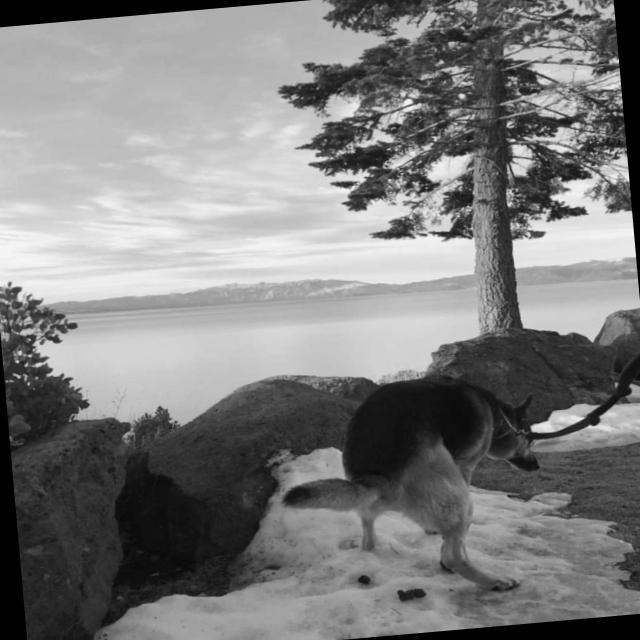squatting: (262, 361, 564, 611)
